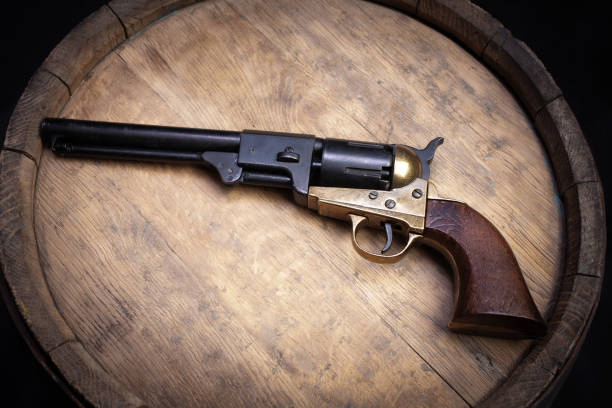gun: (38, 115, 544, 344)
